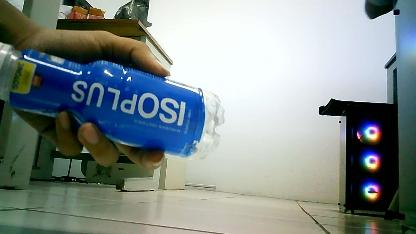Plastic Bottle: (0, 31, 232, 186)
